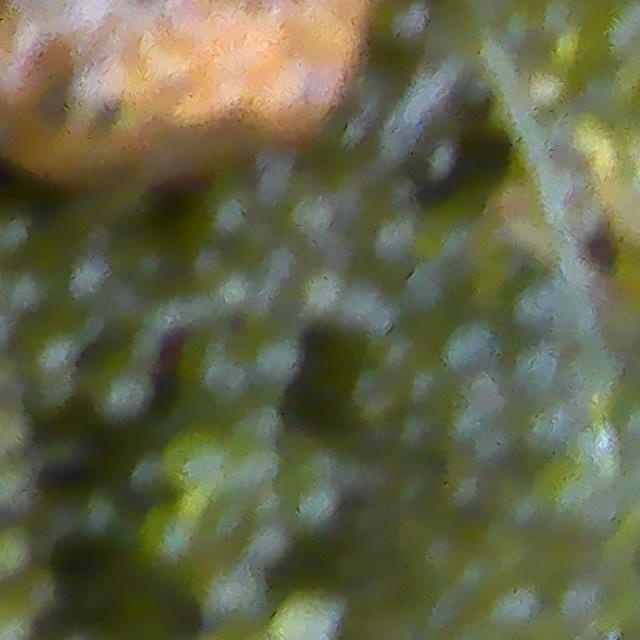SeaGrape: (270, 589, 337, 640)
